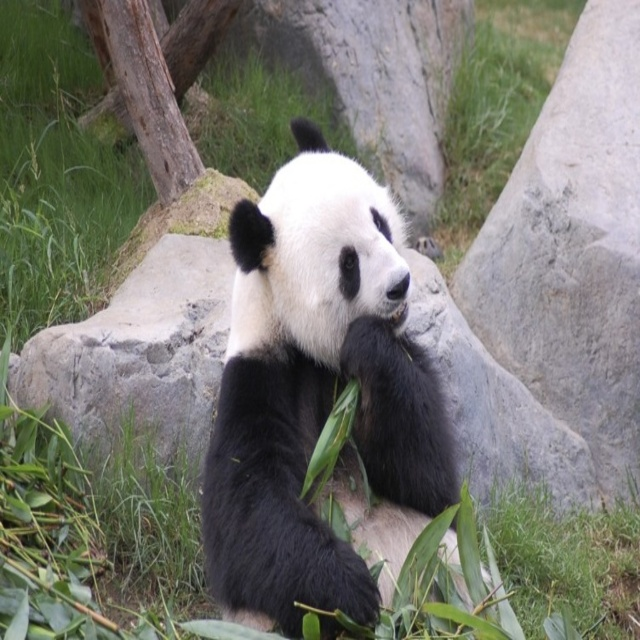Panda: (199, 116, 499, 640)
